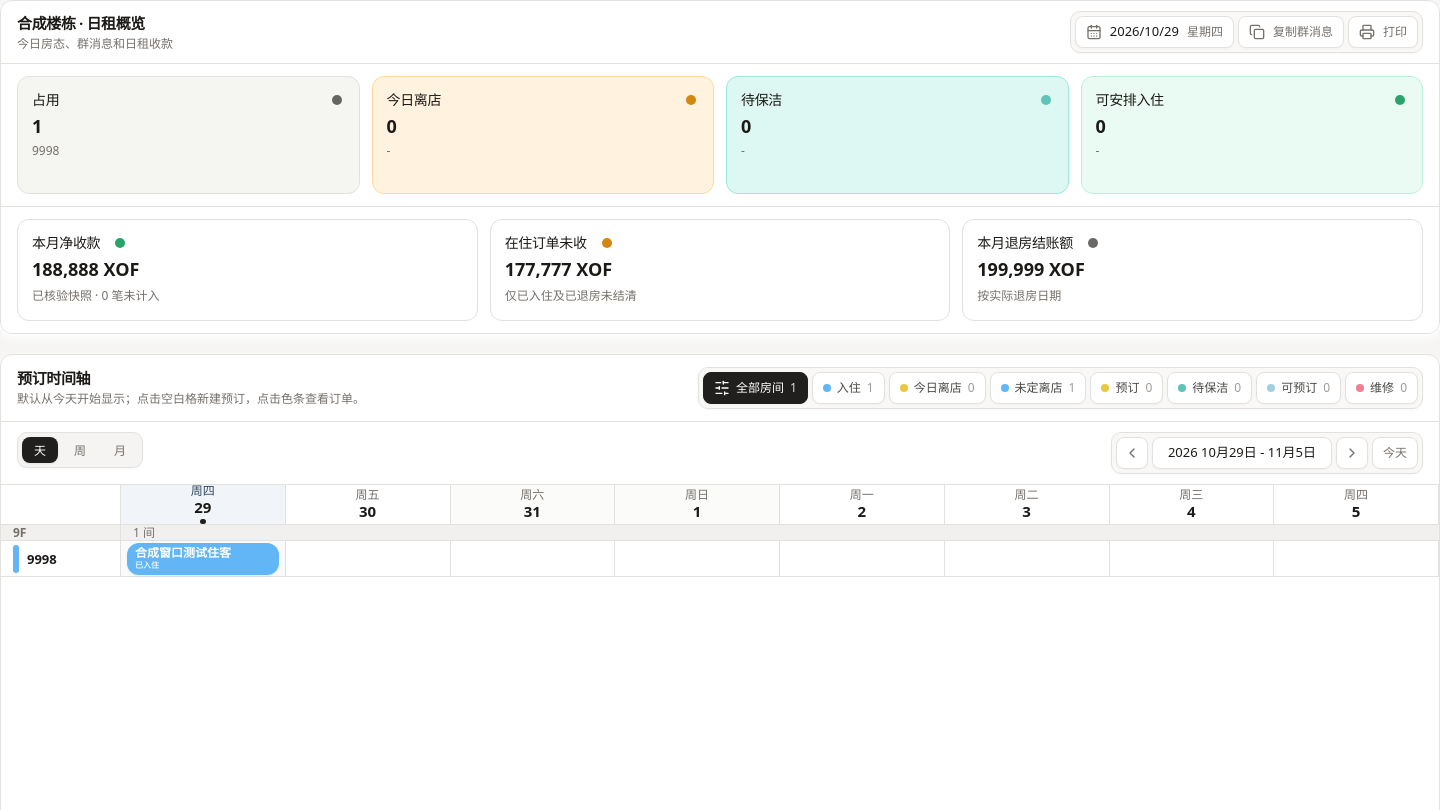
Scenario: does not fall back to copying old room data if clipboard permission fails after the window becomes unknown
Click the button "复制群消息" at (1291, 32), box x1=1238 y1=16 x2=1344 y2=48
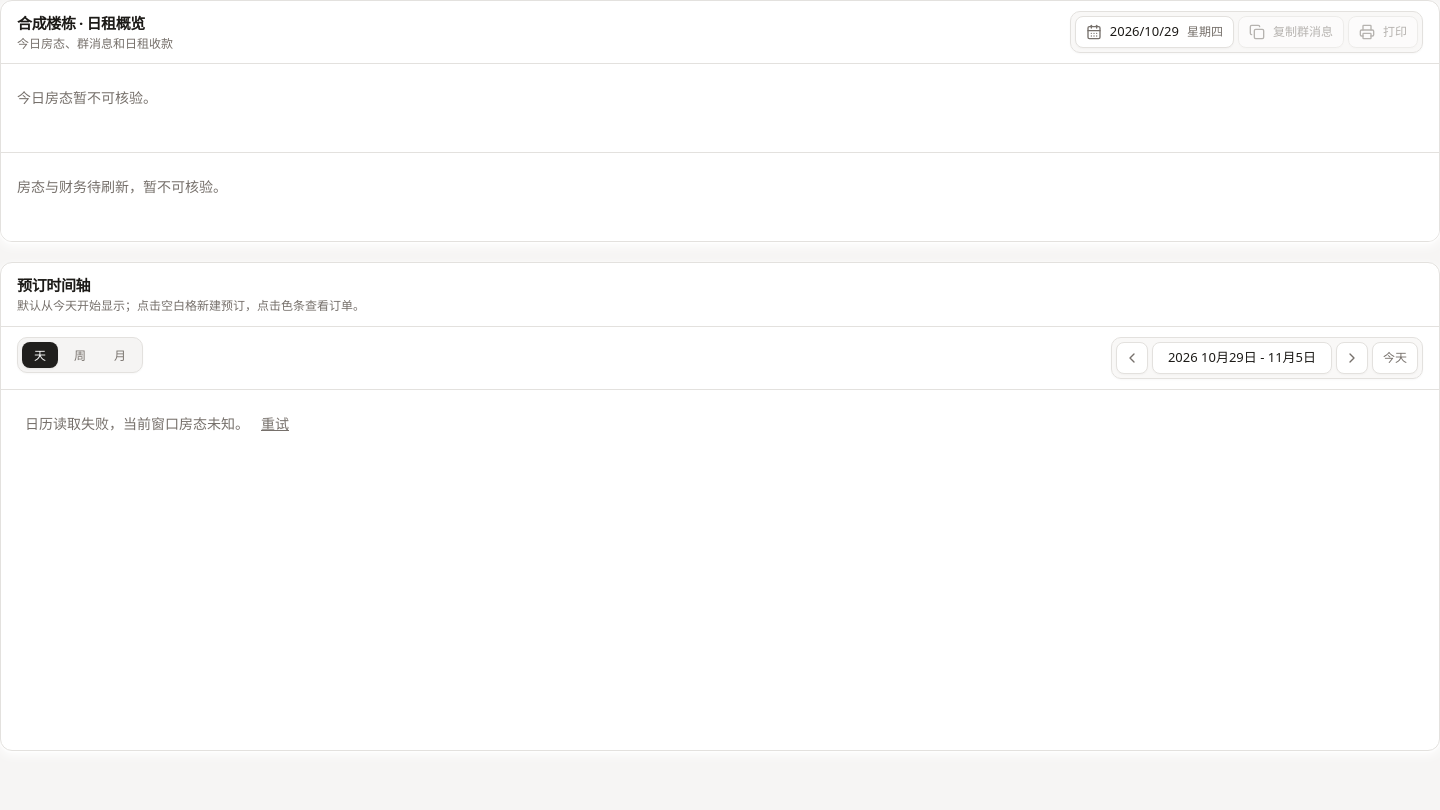
expect the button "复制群消息" is disabled: met, box x1=1238 y1=16 x2=1344 y2=48
